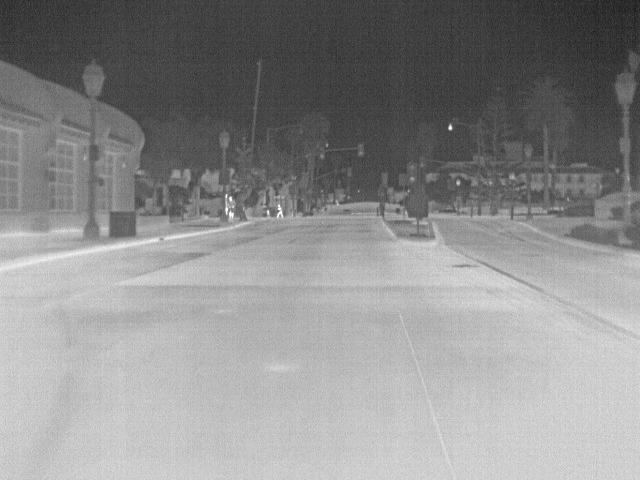person: (227, 194, 236, 220), (275, 202, 285, 218)
